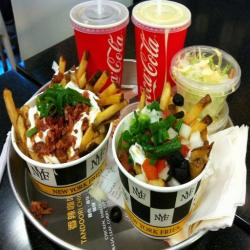fries: (15, 84, 106, 159), (124, 105, 208, 183)
salad: (177, 49, 232, 115)
